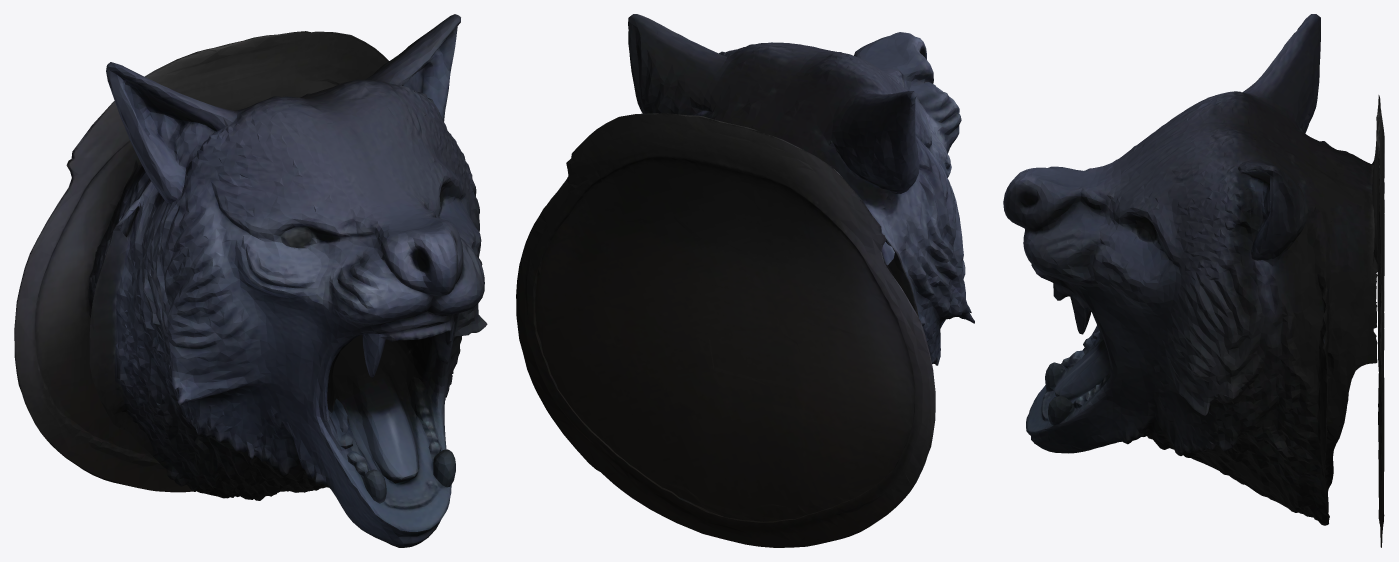
File: wolf.glb
3 renders of one model, left to right at view 1: azimuth 30°, elevation 25°; view 2: azimuth 150°, elevation 25°; view 3: azimuth 270°, elevation 25°, orthographic. The views are drawn at different scales.
Parts seen in each view (by area): view 1: world; view 2: world; view 3: world.
Boxes of the visible parts, x1,y1,x2,y2 form: world: (14, 14, 487, 547); world: (516, 14, 974, 547); world: (1003, 14, 1384, 547).
Bounding box in the file's own units: 0.9573 × 1 × 0.791.
Materials: 1 (1 with a texture image).
